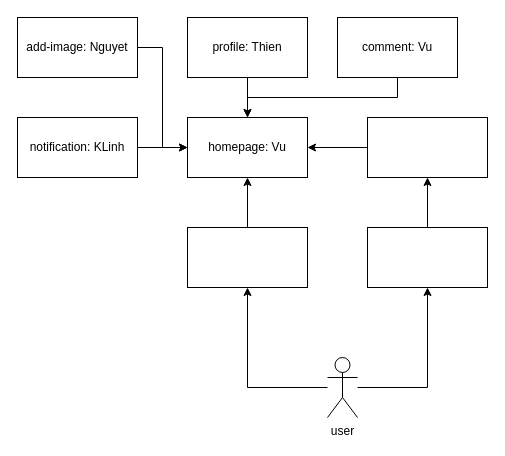
Image size: 505x456. Some labels were removed from this diagram. Each missing label, with the centre of its shape:
add profile: Tien: point 427,147
login: Vu: point 247,257
sign-up: Vu: point 427,257
